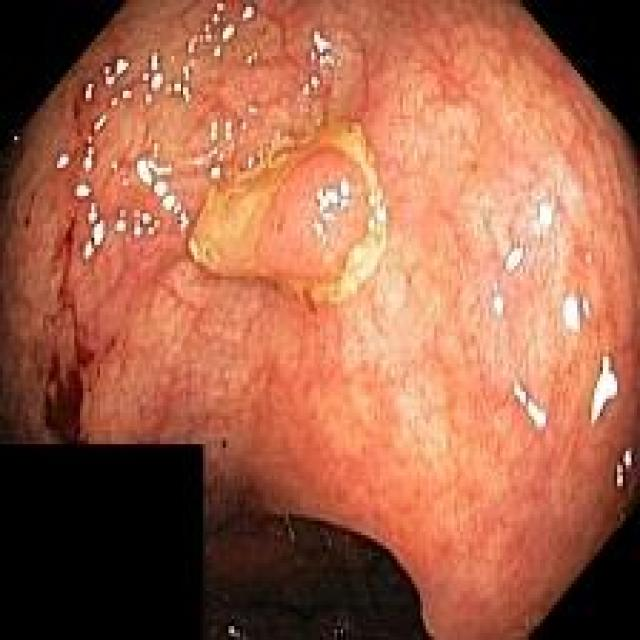Polyps: (189, 124, 385, 284)
